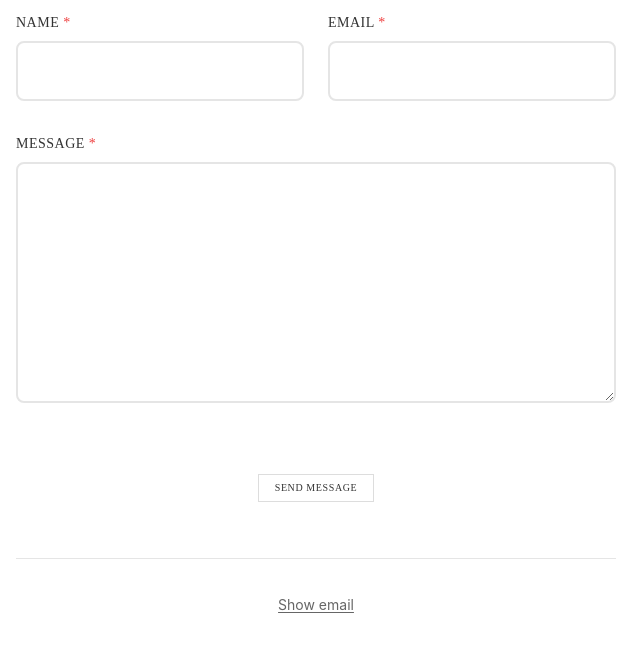
Test: DesktopContactForm › Form Validation › should_show_error_for_invalid_email_format
Type "not-an-email" into the field labelled "Email *" at (472, 71), box [328,41,616,101]
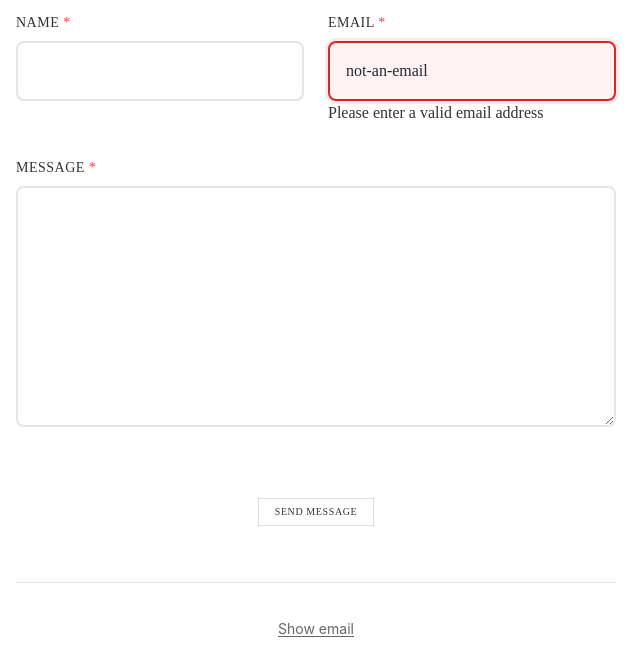
expect the text "Please enter a valid email address" is shown: met, box [328,104,544,121]
